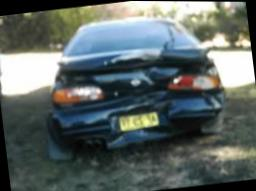Bumper: (45, 88, 221, 153)
Dickey: (50, 42, 211, 97)
Light: (163, 65, 224, 90), (49, 85, 105, 107)
